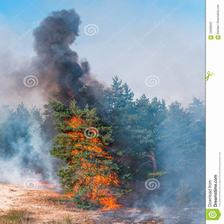fire: (52, 100, 126, 215)
